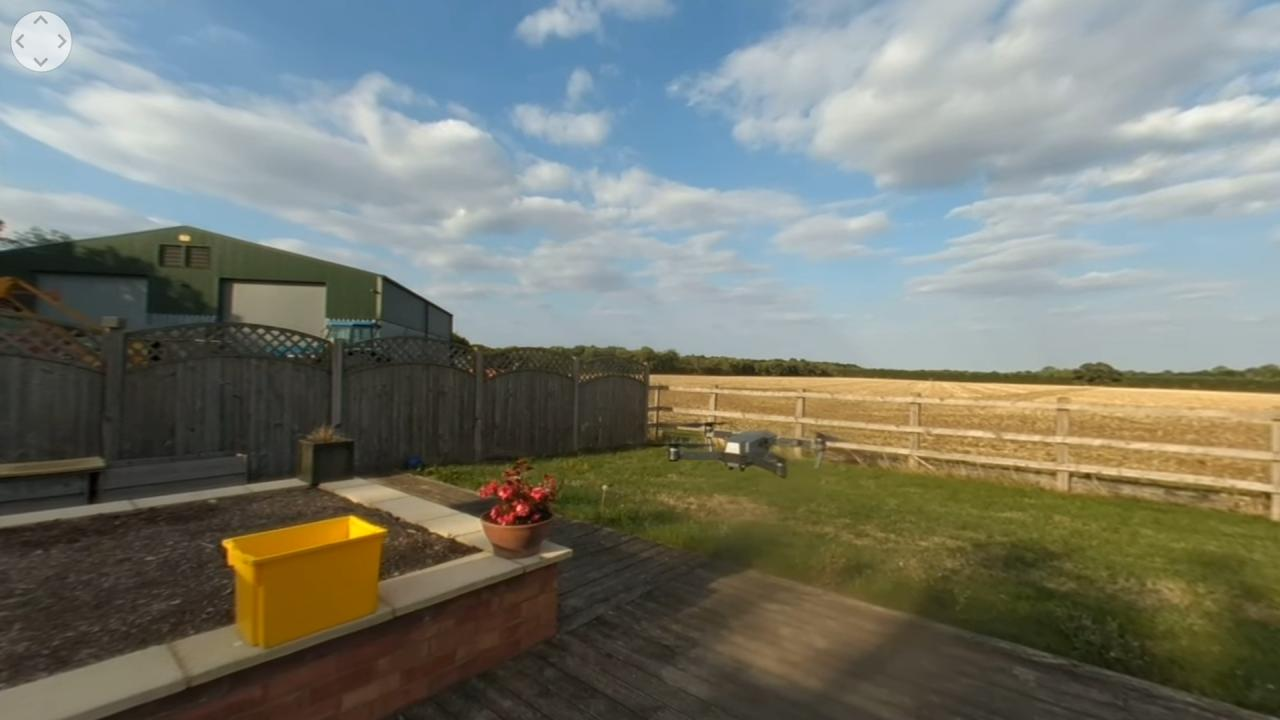Drone: (632, 410, 844, 486)
